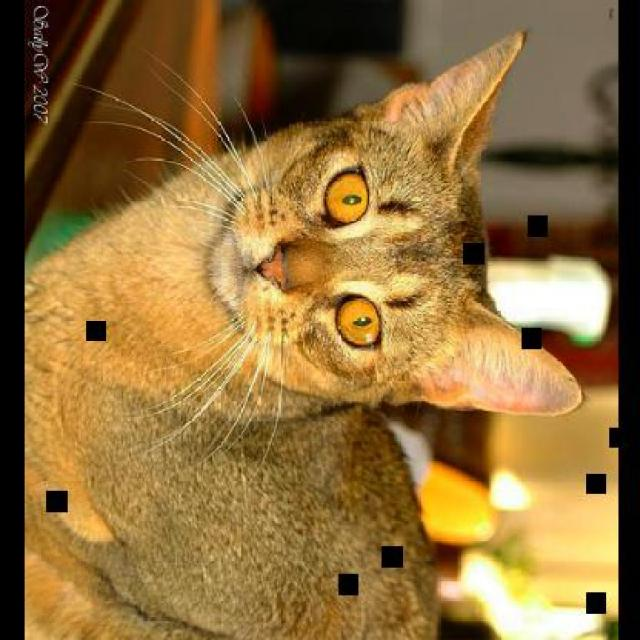unauthorized: (23, 27, 583, 638)
